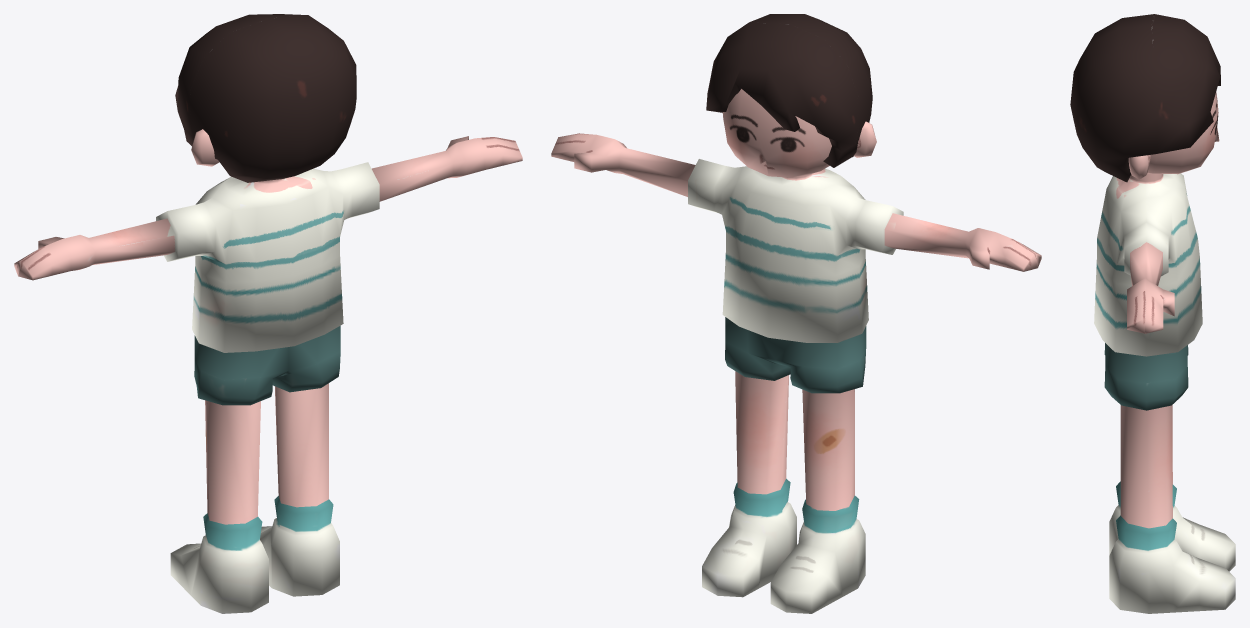
File: milo.glb
3 views of the same model, side by side, from view 1: azimuth 30°, elevation 25°; view 2: azimuth 150°, elevation 25°; view 3: azimuth 270°, elevation 25° (orthographic). The views are drawn at different scales.
Parts seen in each view (by area): view 1: Milo; view 2: Milo; view 3: Milo.
Part boxes in pixels (x1,y1,x2,y2): Milo: [14, 14, 522, 613]; Milo: [551, 14, 1041, 613]; Milo: [1070, 14, 1235, 613].
Bounding box in the file's own units: 1.89 × 2.05 × 0.55.
Materials: 1 (1 with a texture image).
